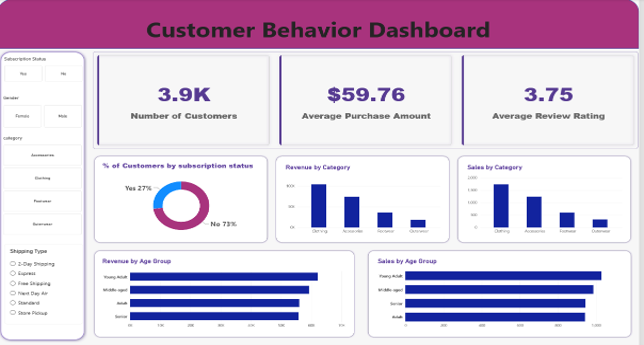

This screenshot's page, from the dashboard's own definition file:
{"tool":"powerbi","page":{"name":"Page 1","canvas":[1920,1320],"ordinal":0},"visuals":[{"type":"cardVisual","fields":{"Data":["public customers.Number of Customers","public customers.Average Purchase Amount","public customers.Average Review Rating"]},"box":[286,182,1634,338],"z":0},{"type":"shape","box":[0,0,1920,172.5],"z":1000},{"type":"textbox","box":[0,55,1920,117.5],"z":2000},{"type":"textbox","box":[0,245,160,295],"z":3000},{"type":"shape","box":[286,542,526,308],"z":4000},{"type":"donutChart","title":"% of  Customers by subscription status ","fields":{"Category":["public customers.subscription_status"],"Y":["CountNonNull(public customers.customer_id)"]},"box":[298,550,504,294],"z":5000},{"type":"shape","box":[830,542,526,308],"z":6000},{"type":"shape","box":[1374,542,526,308],"z":7000},{"type":"clusteredColumnChart","title":"Revenue by Category","fields":{"Category":["public customers.category"],"Y":["Sum(public customers.purchase_amount)"]},"box":[846,558,496,276],"z":8000},{"type":"clusteredColumnChart","title":"Sales by Category","fields":{"Category":["public customers.category"],"Y":["CountNonNull(public customers.customer_id)"]},"box":[1390,558,496,276],"z":9000},{"type":"shape","box":[0,174,268,1018],"z":10000},{"type":"advancedSlicerVisual","fields":{"Values":["public customers.subscription_status"]},"box":[18,200,234,88],"z":11000},{"type":"advancedSlicerVisual","fields":{"Values":["public customers.gender"]},"box":[16,336,234,110],"z":11001},{"type":"advancedSlicerVisual","fields":{"Values":["public customers.category"]},"box":[16,474,234,344],"z":11002},{"type":"listSlicer","fields":{"Values":["public customers.shipping_type"]},"box":[18,850,236,278],"z":11003},{"type":"shape","box":[286,870,786,308],"z":11004},{"type":"shape","box":[1104,870,796,308],"z":11005},{"type":"clusteredBarChart","title":"Revenue by Age Group","fields":{"Category":["public customers.age_group"],"Y":["Sum(public customers.purchase_amount)"]},"box":[298,884,758,278],"z":11006},{"type":"clusteredBarChart","title":"Sales by Age Group","fields":{"Category":["public customers.age_group"],"Y":["CountNonNull(public customers.customer_id)"]},"box":[1122,884,758,278],"z":11007}]}

Visuals, with their boxes on the page's 1920x1320 design canvas (x1, y1, x2, y2). These are canvas units, not pixel positions in the 644x345 screenshot, which may show the page scaled, cropped or inside an application window:
cardVisual - public customers.Number of Customers x public customers.Average Purchase Amount: 286,182,1920,520
shape: 0,0,1920,172
textbox: 0,55,1920,172
textbox: 0,245,160,540
shape: 286,542,812,850
"% of  Customers by subscription status " donutChart: 298,550,802,844
shape: 830,542,1356,850
shape: 1374,542,1900,850
"Revenue by Category" clusteredColumnChart: 846,558,1342,834
"Sales by Category" clusteredColumnChart: 1390,558,1886,834
shape: 0,174,268,1192
advancedSlicerVisual - public customers.subscription_status: 18,200,252,288
advancedSlicerVisual - public customers.gender: 16,336,250,446
advancedSlicerVisual - public customers.category: 16,474,250,818
listSlicer - public customers.shipping_type: 18,850,254,1128
shape: 286,870,1072,1178
shape: 1104,870,1900,1178
"Revenue by Age Group" clusteredBarChart: 298,884,1056,1162
"Sales by Age Group" clusteredBarChart: 1122,884,1880,1162
